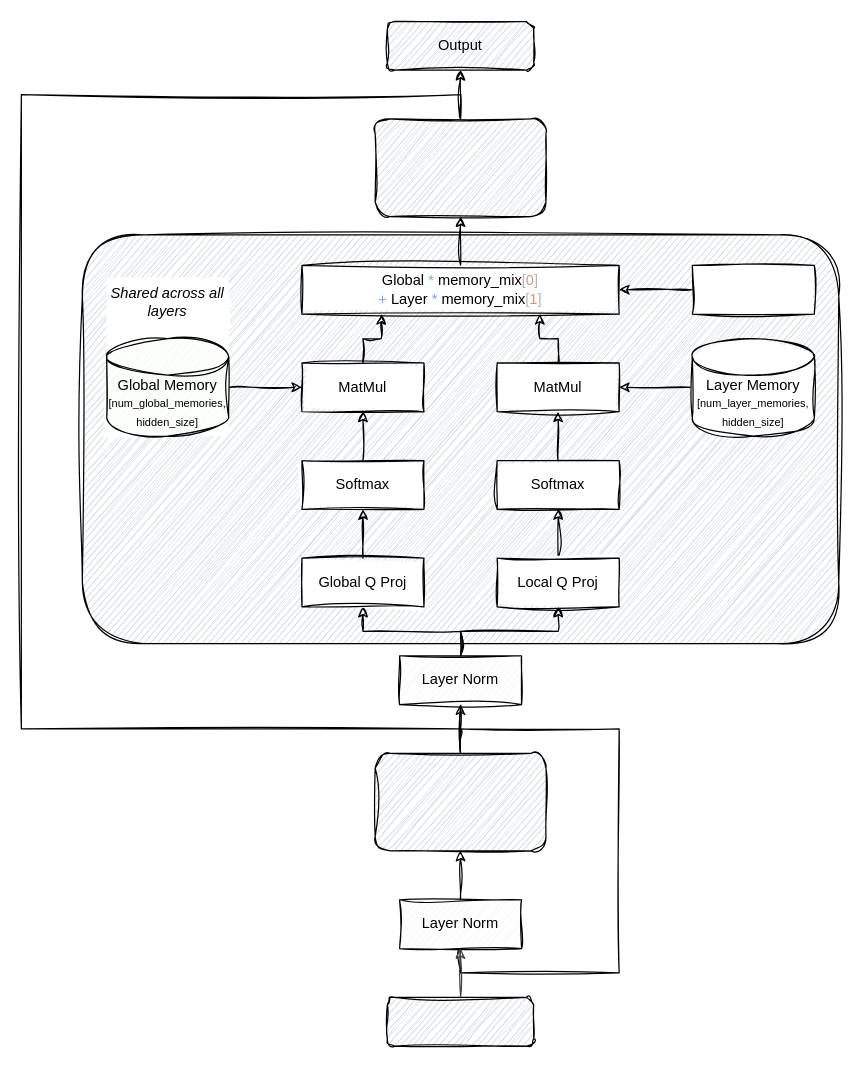
Some shapes in this 860 by 1068 pixel diagram are drawn without their labels. Each missing label, with the centre of its shape:
Hidden States: the point at 460,1021
MLP: the point at 460,167
Multi-Head Attention: the point at 460,801
Softmax memory_mix [2]: the point at 752,289
